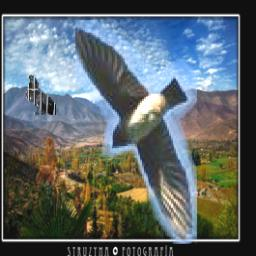Crow: (27, 75, 57, 115)
Swallow: (75, 20, 197, 244)
